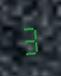three: (19, 21, 40, 55)
